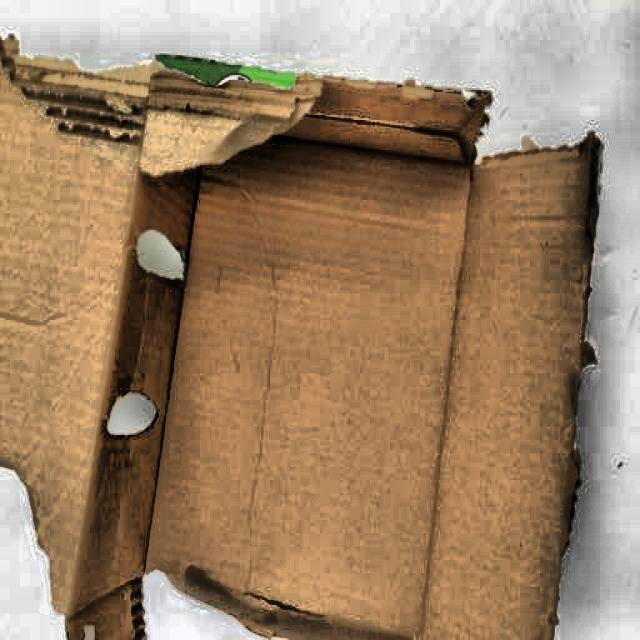cardboard: (1, 33, 565, 640)
